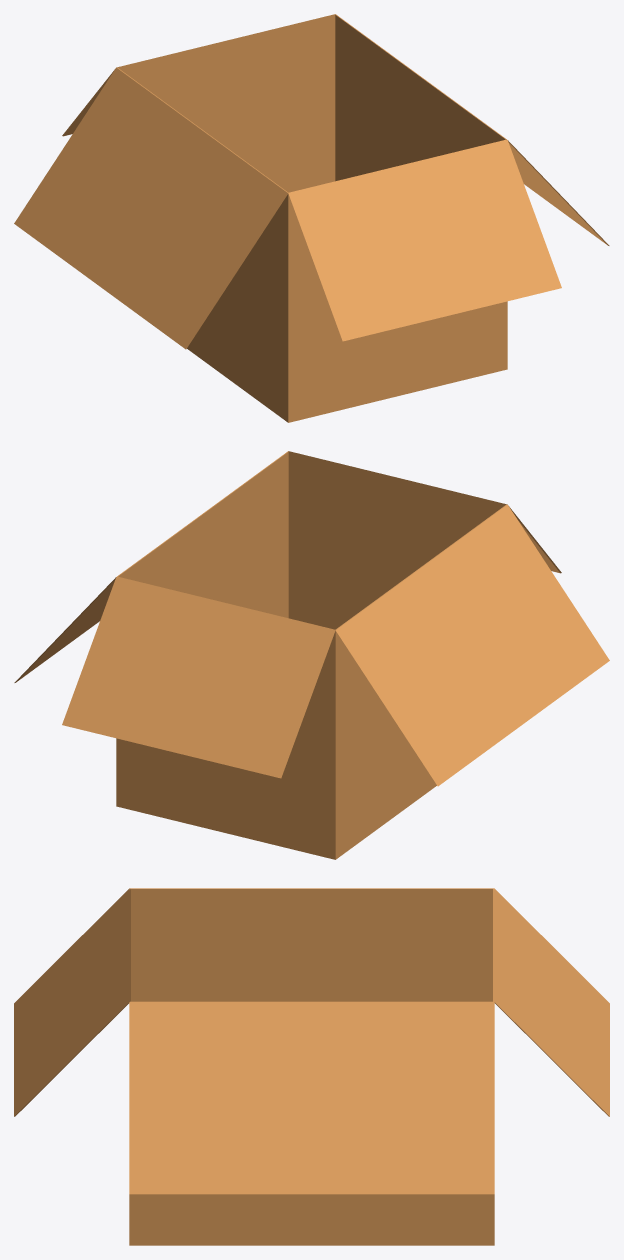
The model's file is paperBox.fbx.
3 renders of one model, top to bottom at view 1: azimuth 30°, elevation 25°; view 2: azimuth 150°, elevation 25°; view 3: azimuth 270°, elevation 25°, orthographic. The views are drawn at different scales.
Visible parts, largest first — view 1: Cube; view 2: Cube; view 3: Cube.
Part boxes in pixels (x1,y1,x2,y2): Cube: [14, 14, 609, 422]; Cube: [14, 451, 609, 859]; Cube: [14, 888, 609, 1245].
Size of the model in its own units: 387 by 200 by 444.
